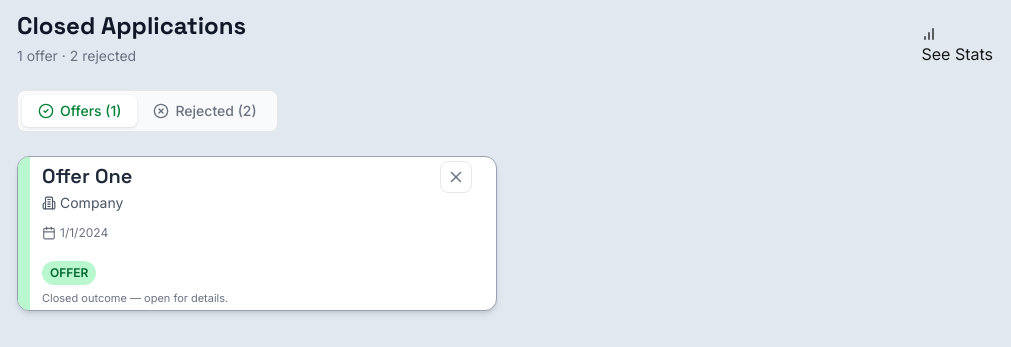
Test: ClosedClient › shows the last stage reached for rejected jobs that have cycleEndStage
Click the tab "Rejected (2)": {"x": 205, "y": 111} [138, 95, 273, 127]
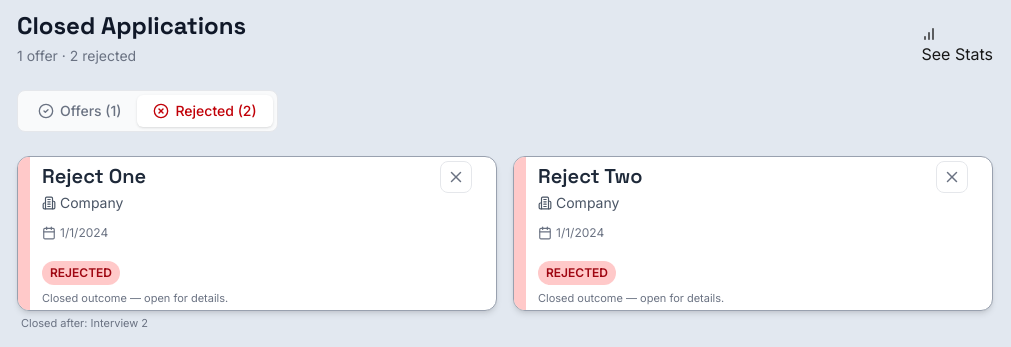
expect the text "Closed after: Interview 2" is shown: met, box [21, 316, 148, 330]
